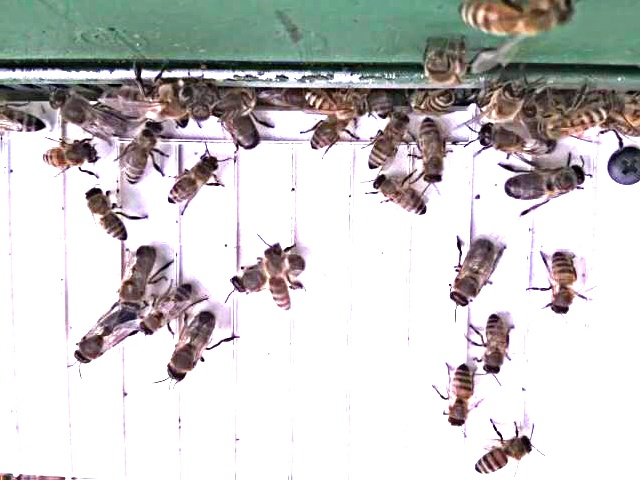Drone: (69, 303, 144, 369), (160, 311, 218, 393), (45, 88, 128, 145), (443, 237, 500, 312), (496, 164, 586, 206), (115, 245, 158, 316), (474, 124, 560, 159), (215, 109, 270, 156)
Worker: (451, 1, 580, 39), (98, 78, 197, 127), (160, 153, 224, 209), (475, 67, 530, 126), (113, 126, 167, 186), (367, 175, 432, 223), (437, 360, 479, 433), (409, 120, 451, 193), (295, 81, 369, 121), (362, 116, 412, 174), (472, 433, 535, 479), (416, 41, 467, 97), (140, 285, 197, 335), (81, 189, 132, 243), (475, 315, 518, 378), (302, 111, 355, 161), (38, 136, 101, 178), (545, 248, 579, 320), (261, 243, 294, 313)
